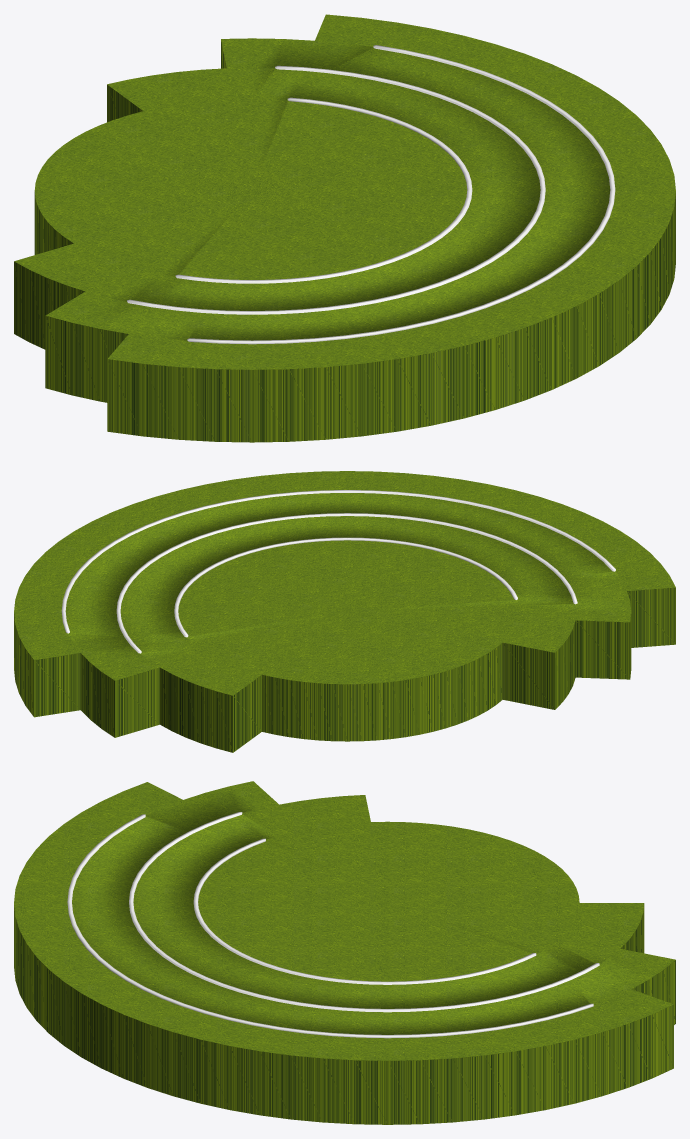
File: Courtyard.fbx
3 renders of one model, top to bottom at view 1: azimuth 30°, elevation 25°; view 2: azimuth 150°, elevation 25°; view 3: azimuth 270°, elevation 25°, orthographic. The views are drawn at different scales.
Visible parts, largest first — view 1: Cylinder; view 2: Cylinder; view 3: Cylinder.
Boxes of the visible parts, <box> form: Cylinder: <box>14,14,675,442</box>; Cylinder: <box>14,471,675,752</box>; Cylinder: <box>14,781,675,1124</box>.
Bounding box in the file's own units: 2287 × 250 × 2287.
Materials: 2 (2 with a texture image).
